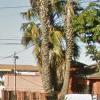Palm tree: (34, 3, 78, 90)
